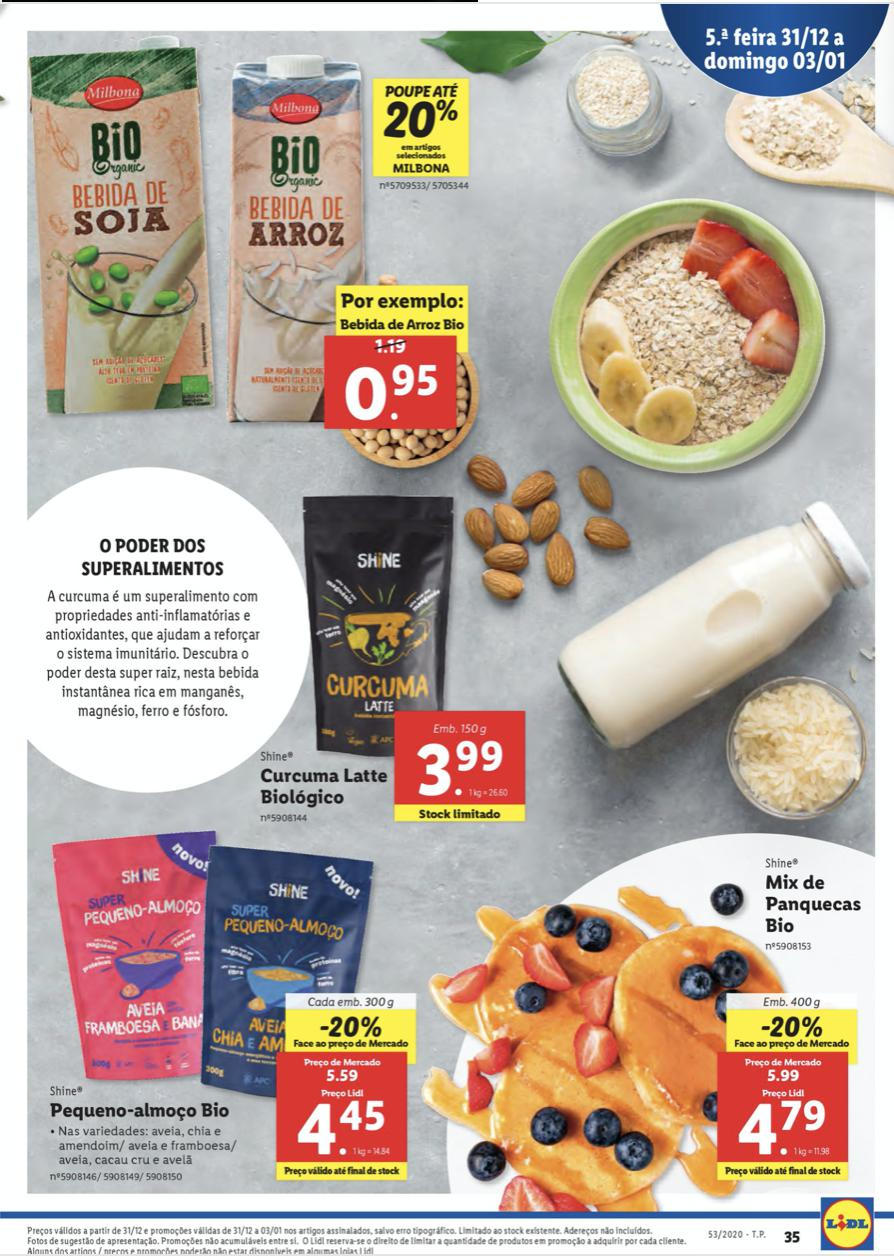name: (759, 869, 864, 933), (254, 763, 390, 808), (47, 1099, 231, 1125)
price: (337, 358, 450, 429), (289, 1097, 400, 1163), (414, 738, 517, 802), (737, 1096, 836, 1157)
product: (537, 488, 868, 1194), (37, 41, 472, 471), (36, 845, 434, 1196), (237, 486, 523, 835)
promotion: (381, 94, 462, 144), (753, 1010, 828, 1043), (315, 1011, 387, 1041)
